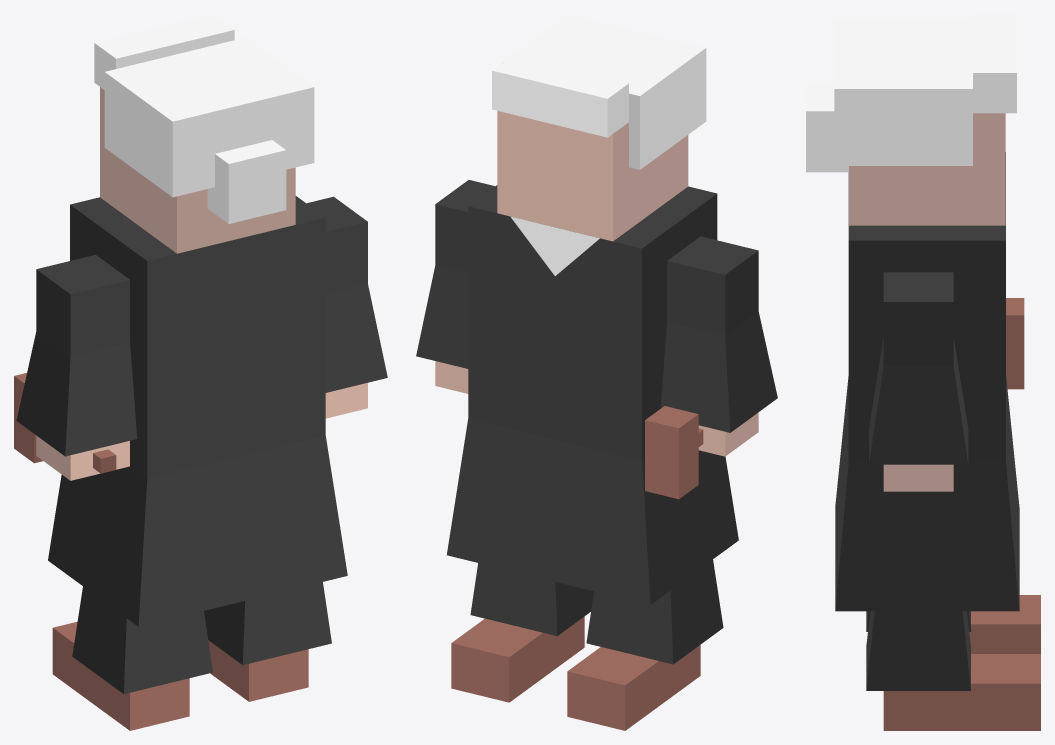
The model's file is sidewalk-judge.glb.
3 views of the same model, side by side, from view 1: azimuth 30°, elevation 25°; view 2: azimuth 150°, elevation 25°; view 3: azimuth 270°, elevation 25° (orthographic). The views are drawn at different scales.
Visible parts, largest first — view 1: UNIT.031, UNIT.033, UNIT.035, UNIT.034, UNIT.032; view 2: UNIT.031, UNIT.033, UNIT.035, UNIT.034, UNIT.032; view 3: UNIT.031, UNIT.032, UNIT.034, UNIT.035, UNIT.033.
Part boxes in pixels (x1,y1,x2,y2): UNIT.031: [48, 14, 347, 626]; UNIT.033: [14, 254, 137, 480]; UNIT.035: [52, 586, 212, 730]; UNIT.034: [204, 582, 331, 701]; UNIT.032: [307, 196, 387, 418]; UNIT.031: [447, 14, 738, 604]; UNIT.033: [645, 236, 777, 499]; UNIT.035: [567, 559, 723, 730]; UNIT.034: [451, 563, 593, 702]; UNIT.032: [416, 180, 494, 393]; UNIT.031: [806, 14, 1019, 611]; UNIT.032: [869, 272, 968, 491]; UNIT.034: [866, 611, 1040, 730]; UNIT.035: [866, 595, 1040, 653]; UNIT.033: [1006, 298, 1024, 389].
Size of the model in its own units: 0.7592 by 1.42 by 0.4708.
1 material, 1 textured.
